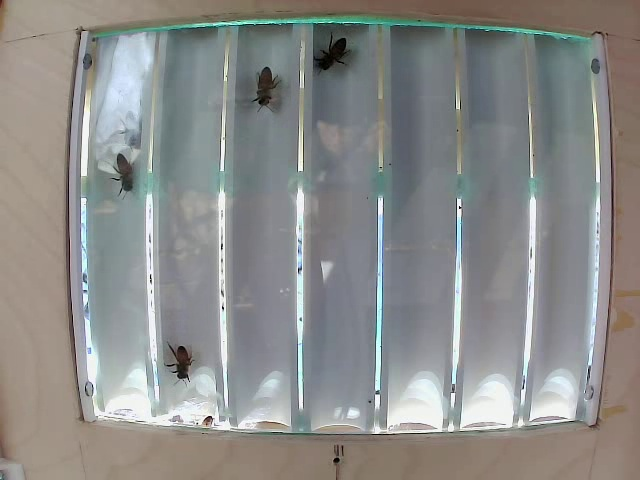bee: (161, 336, 206, 392), (240, 55, 282, 109), (106, 148, 148, 201), (318, 34, 358, 77)
